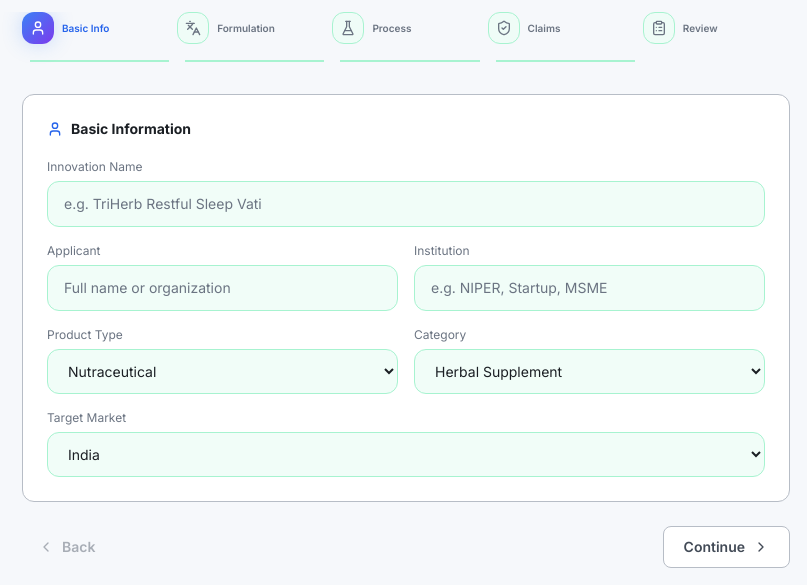
Test: InnovationPassportForm formulation parsing › shows an error when parsing fails
This screenshot has width=807, height=585.
Click the button "Continue": [726, 547] box [663,526,790,568]
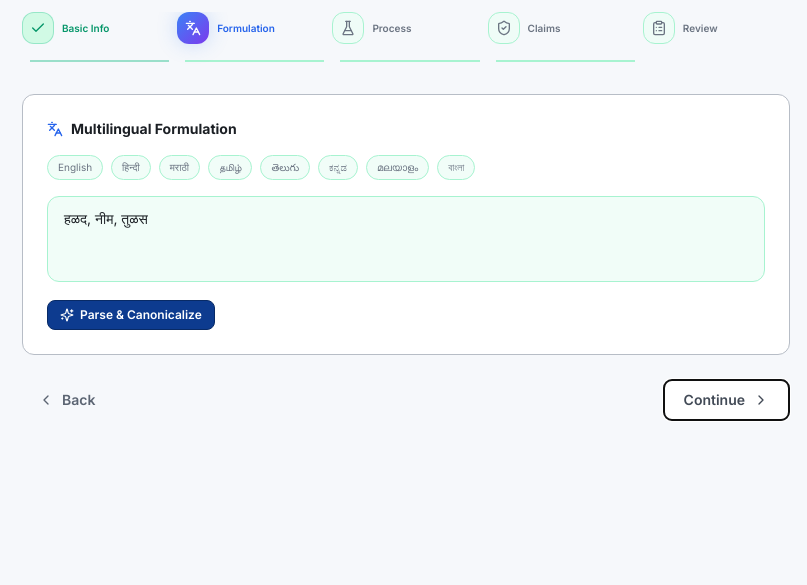
Click the button "Parse & Canonicalize": [131, 315] box [47,300,215,330]
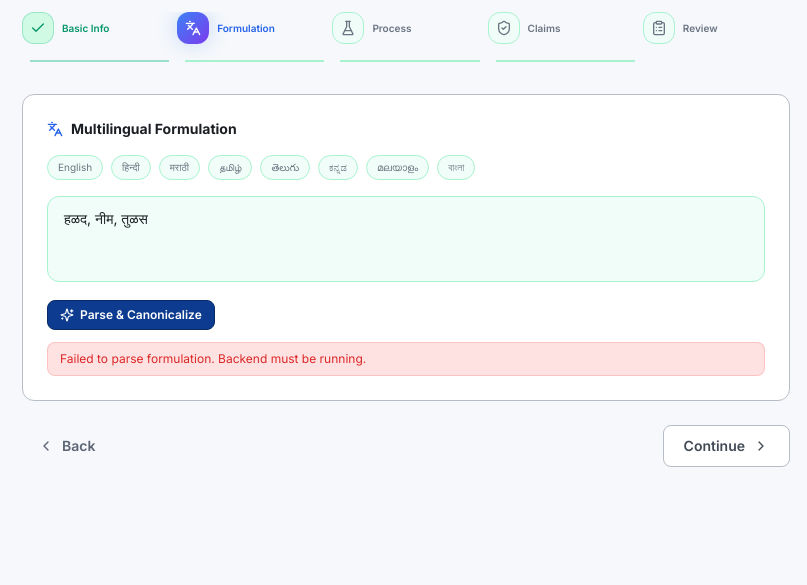
Result: the text "Failed to parse formulation. Backend must be running." is shown at [47,342,765,376]
